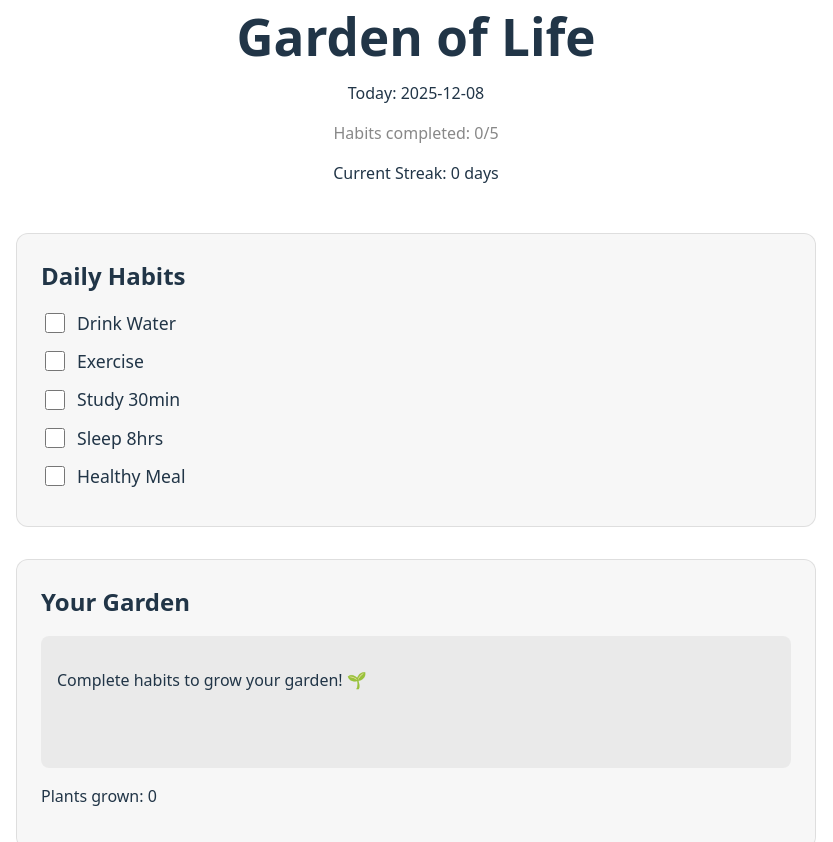
Scenario: TC03 - Streak Validation › should not increment streak until all habits are completed
Complete 4 out of 5 habits
Click the checkbox with test id "habit-drink-water".
click(55, 323)  # box [45,313,65,333]
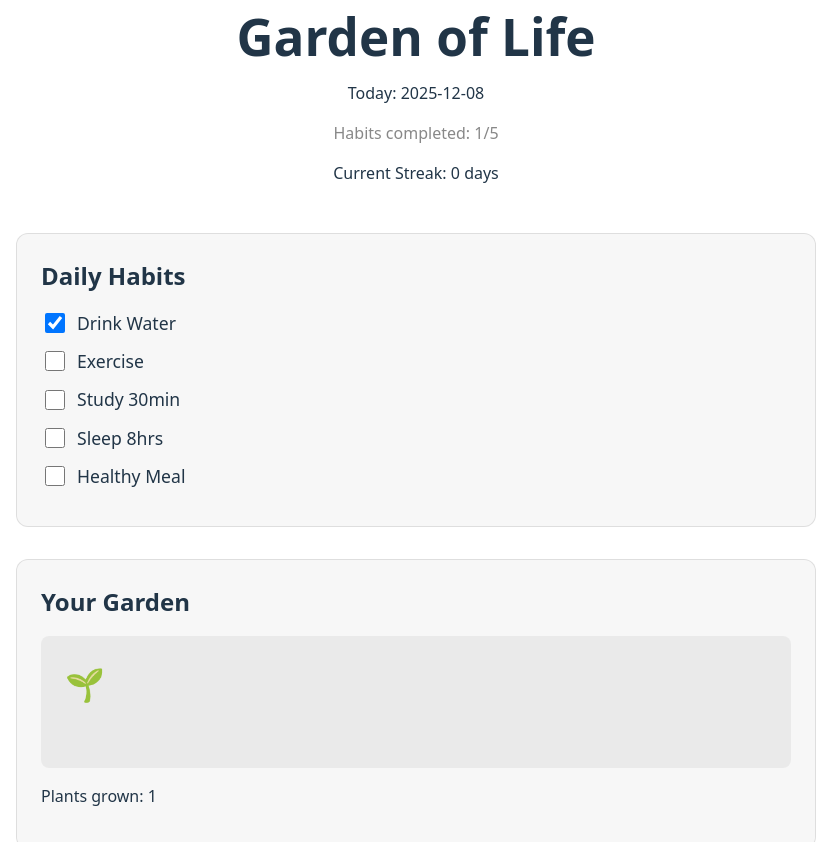
Expected: the text with test id "streak-indicator" reads "Current Streak: 0 days", [333,162,499,184]
Click the checkbox with test id "habit-exercise".
click(55, 361)  # box [45,351,65,371]
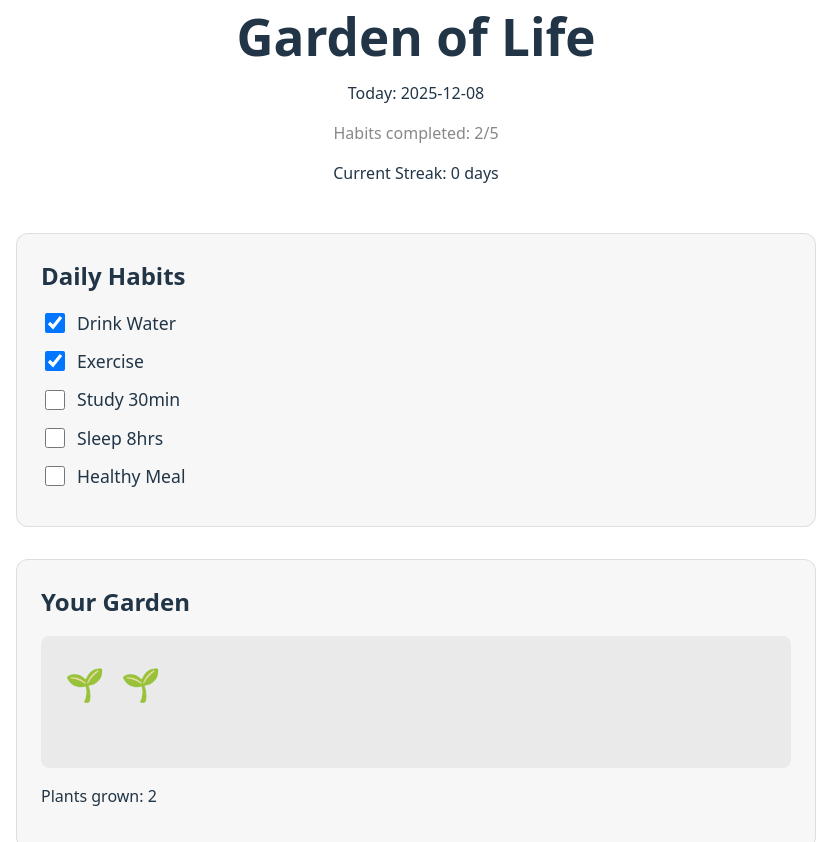
Expected: the text with test id "streak-indicator" reads "Current Streak: 0 days", [333,162,499,184]
Click the checkbox with test id "habit-study-30".
click(55, 400)  # box [45,390,65,410]
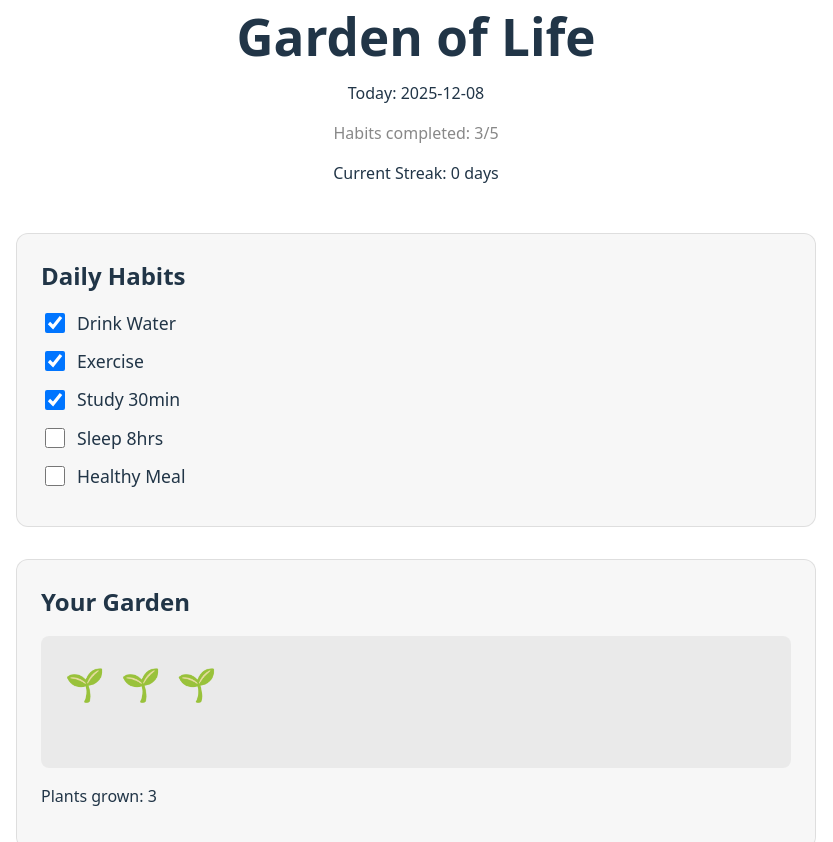
Expected: the text with test id "streak-indicator" reads "Current Streak: 0 days", [333,162,499,184]
Click the checkbox with test id "habit-sleep-8".
click(55, 438)  # box [45,428,65,448]
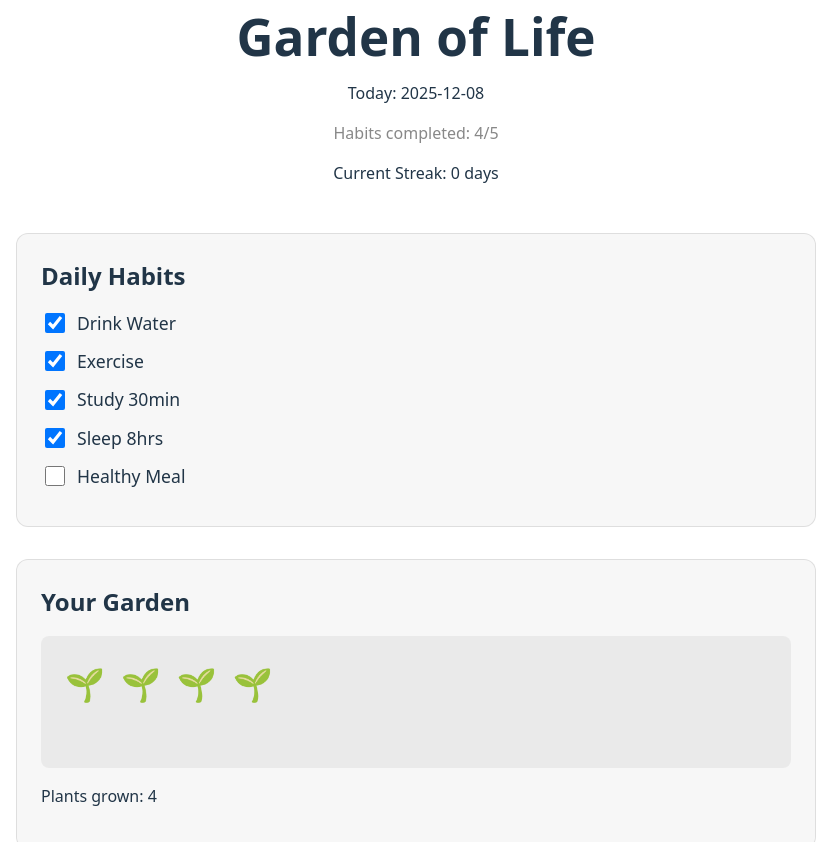
Expected: the text with test id "streak-indicator" reads "Current Streak: 0 days", [333,162,499,184]
Result: the text with test id "completion-indicator" reads "Habits completed: 4/5" at [334,122,499,144]
